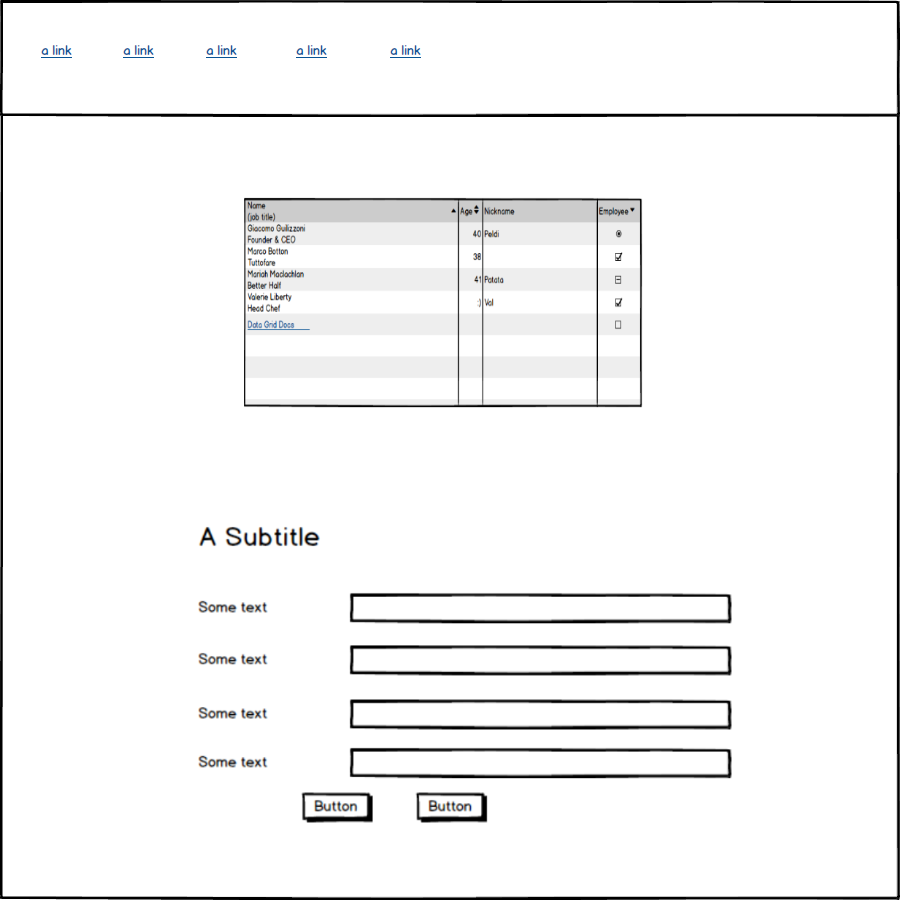button: (298, 788, 375, 829), (415, 788, 490, 826)
h1: (193, 523, 330, 556)
input: (349, 744, 737, 784), (346, 695, 735, 734), (349, 588, 735, 626), (348, 643, 735, 680)
label: (198, 700, 271, 725), (196, 749, 272, 773), (193, 596, 272, 619), (193, 648, 278, 667)
navlink: (293, 37, 338, 69), (113, 37, 168, 63), (35, 33, 78, 66), (379, 37, 428, 63), (204, 37, 244, 64)
table: (241, 192, 649, 408)
